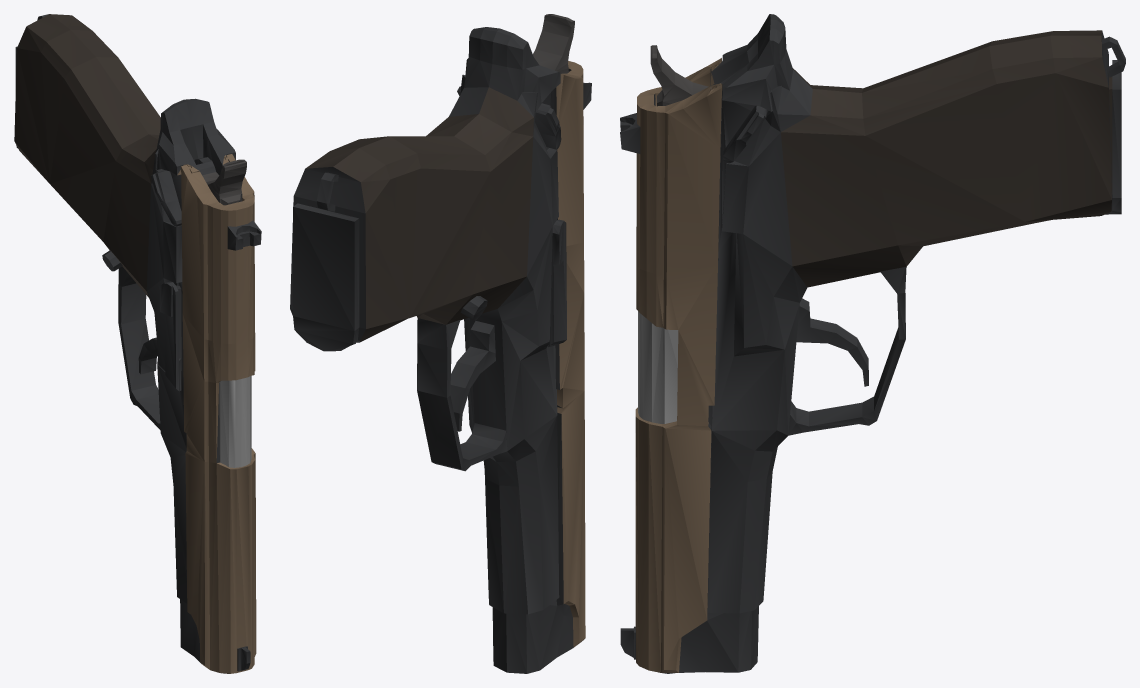
The model's file is pistol model.fbx.
3 renders of one model, left to right at view 1: azimuth 30°, elevation 25°; view 2: azimuth 150°, elevation 25°; view 3: azimuth 270°, elevation 25°, orthographic. The views are drawn at different scales.
Visible parts, largest first — view 1: pistolet; view 2: pistolet; view 3: pistolet.
Boxes of the visible parts, x1,y1,x2,y2 form: pistolet: (14,14,261,673); pistolet: (290,14,591,673); pistolet: (620,14,1125,673).
Bounding box in the file's own units: 0.0803 × 0.5314 × 0.3769.
Materials: 1 (1 with a texture image).
